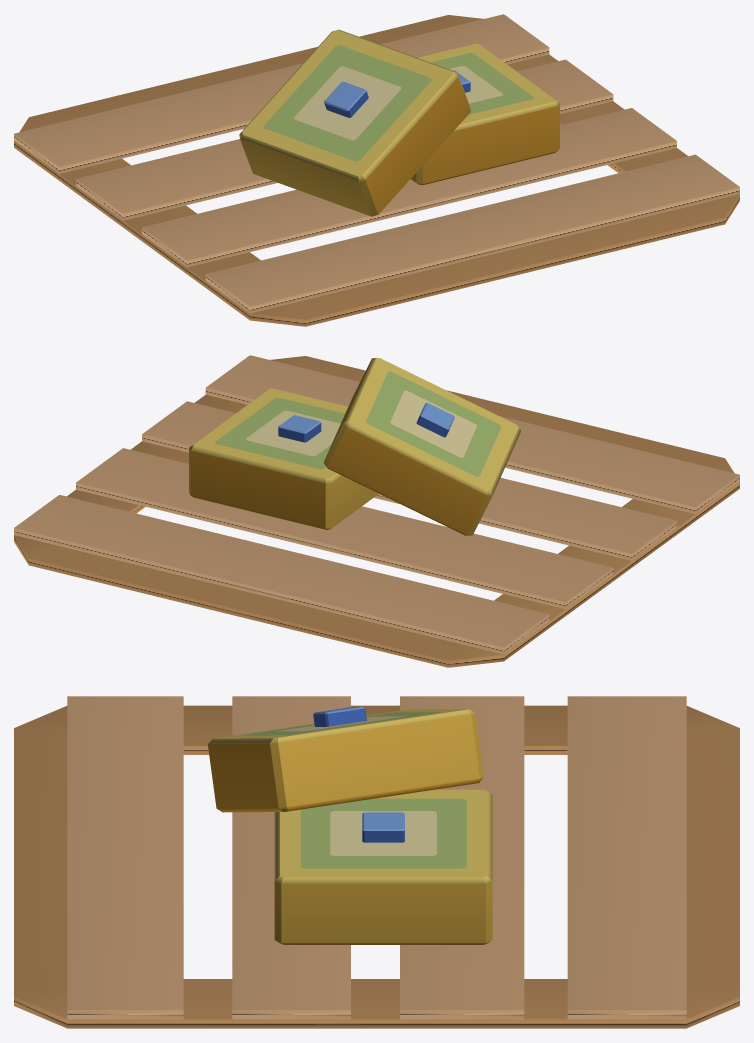
The model's file is BC_cookrecipe_S_35.fbx.
3 renders of one model, top to bottom at view 1: azimuth 30°, elevation 25°; view 2: azimuth 150°, elevation 25°; view 3: azimuth 270°, elevation 25°, orthographic. The views are drawn at different scales.
Visible parts, largest first — view 1: base, BC_cookrecipe_S_34 1; view 2: base, BC_cookrecipe_S_34 1; view 3: base, BC_cookrecipe_S_34 1.
Part boxes in pixels (left/top/right/bottom): base: left=14, top=14, right=739, bottom=326; BC_cookrecipe_S_34 1: left=239, top=29, right=559, bottom=216; base: left=14, top=355, right=739, bottom=667; BC_cookrecipe_S_34 1: left=189, top=357, right=520, bottom=535; base: left=14, top=696, right=739, bottom=1028; BC_cookrecipe_S_34 1: left=207, top=707, right=492, bottom=944.
Bounding box in the file's own units: 3.54 × 0.8342 × 3.47.
